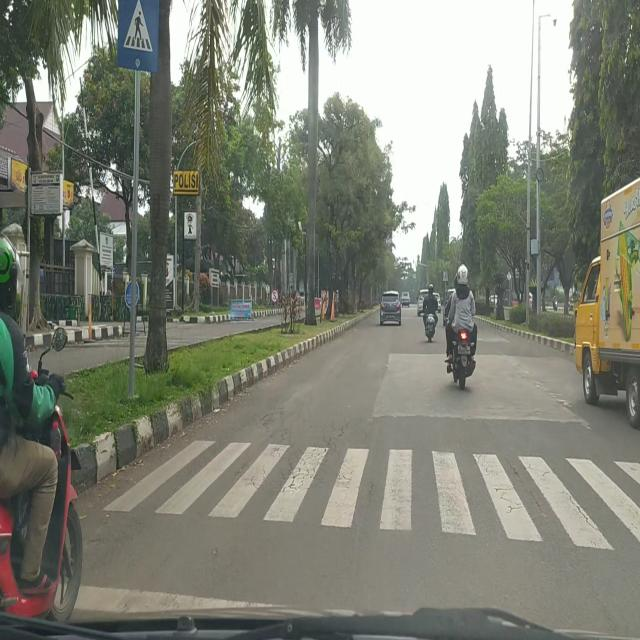Drain Hole: (240, 408, 374, 490), (478, 448, 597, 528)
